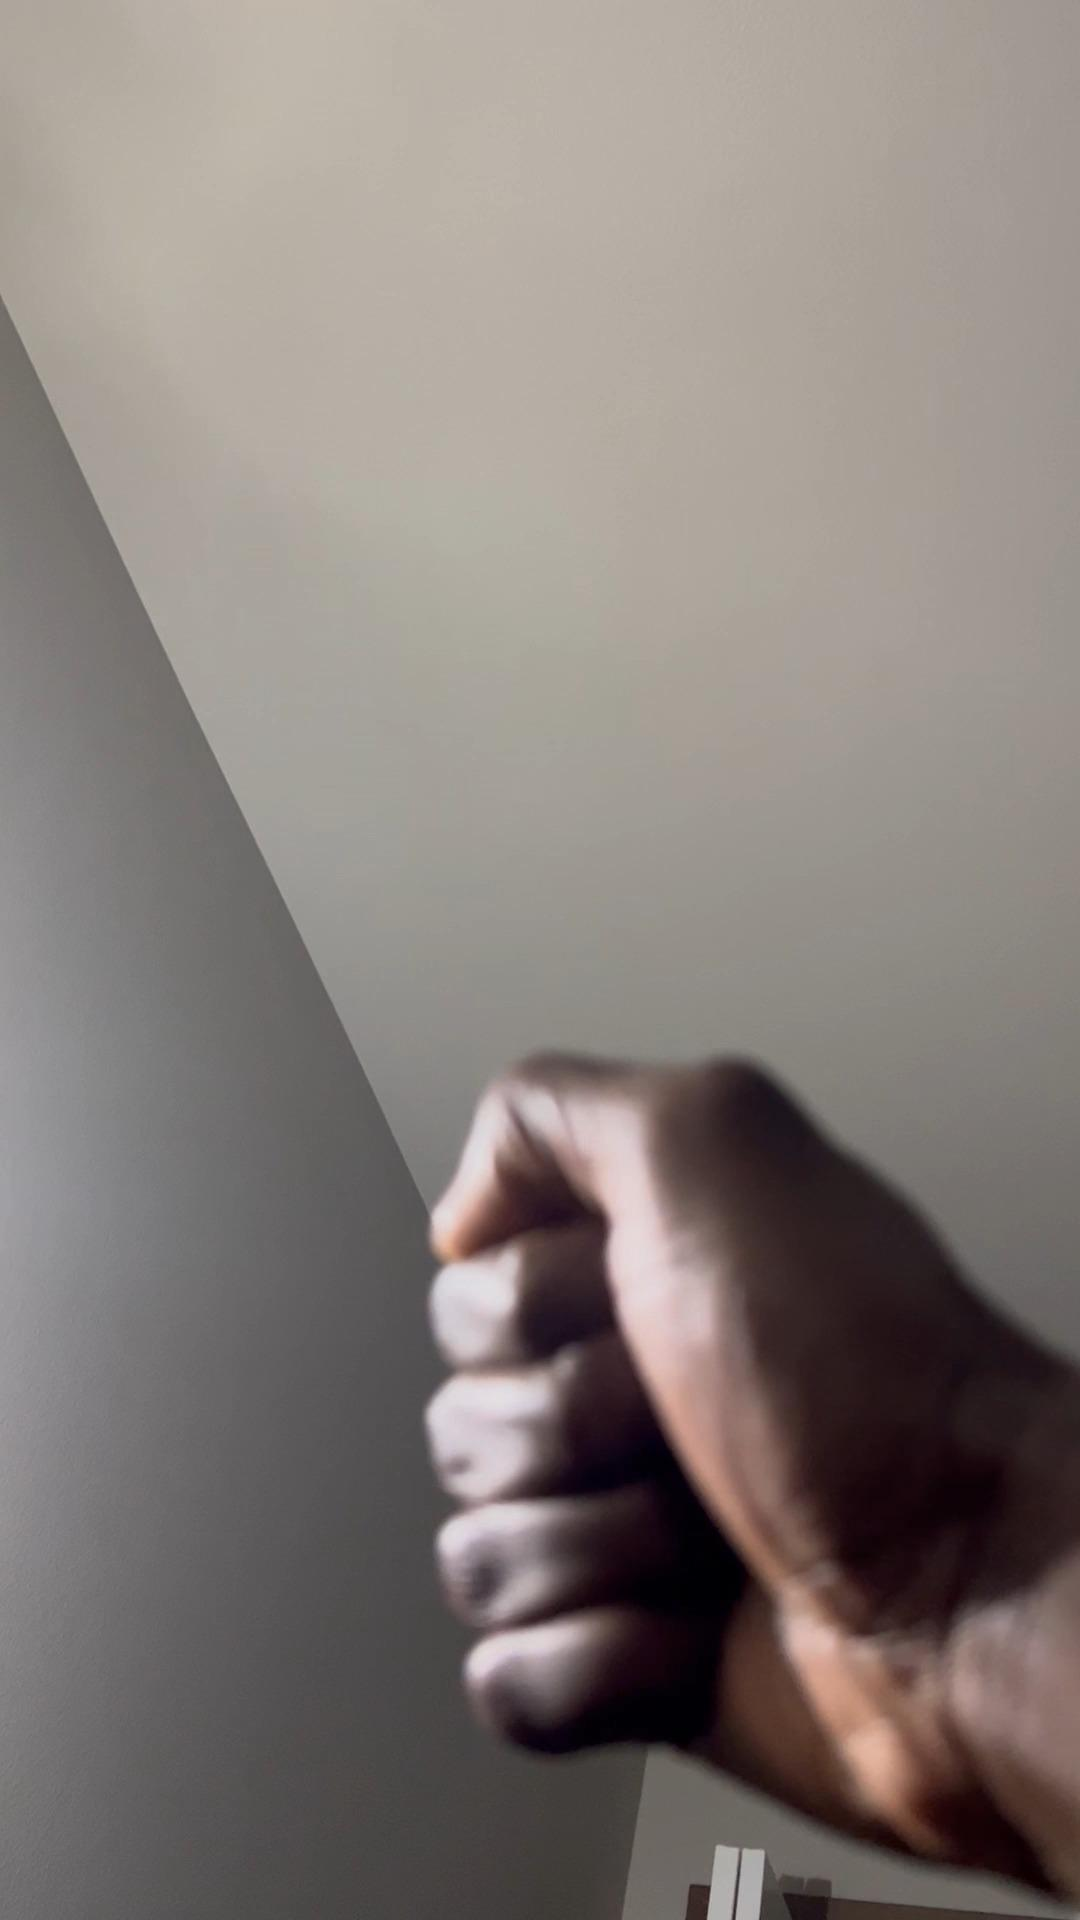Rock: (423, 1043, 1080, 1855)
